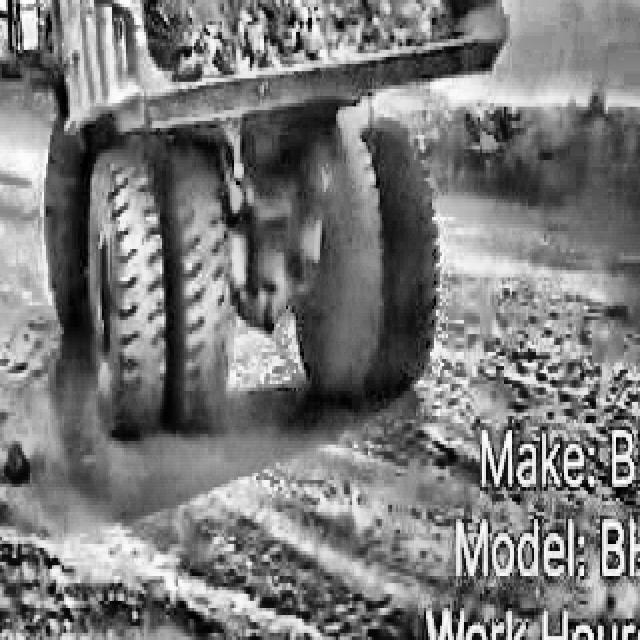dump_truck: (0, 0, 512, 398)
